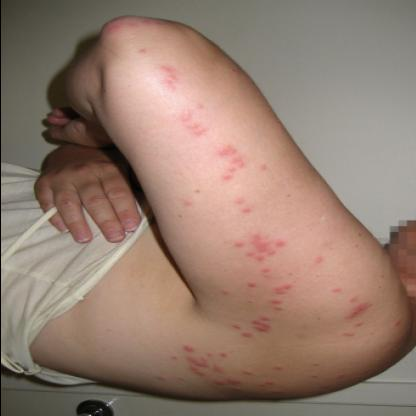Bed Bug: (170, 342, 242, 394), (231, 226, 291, 262), (216, 143, 250, 184), (107, 16, 169, 36), (179, 102, 213, 138), (228, 314, 274, 338), (348, 290, 376, 328), (268, 282, 300, 310), (157, 61, 180, 93), (259, 379, 286, 396), (230, 194, 254, 213), (306, 360, 326, 379), (306, 382, 336, 394), (257, 263, 281, 278), (256, 160, 272, 174), (328, 284, 346, 296), (312, 252, 328, 264), (180, 198, 197, 209), (228, 66, 243, 78), (244, 280, 262, 290), (152, 373, 168, 384), (243, 366, 257, 378), (274, 361, 288, 373), (136, 46, 152, 56), (342, 330, 360, 338), (334, 372, 352, 380), (392, 317, 406, 327), (219, 288, 233, 296)
